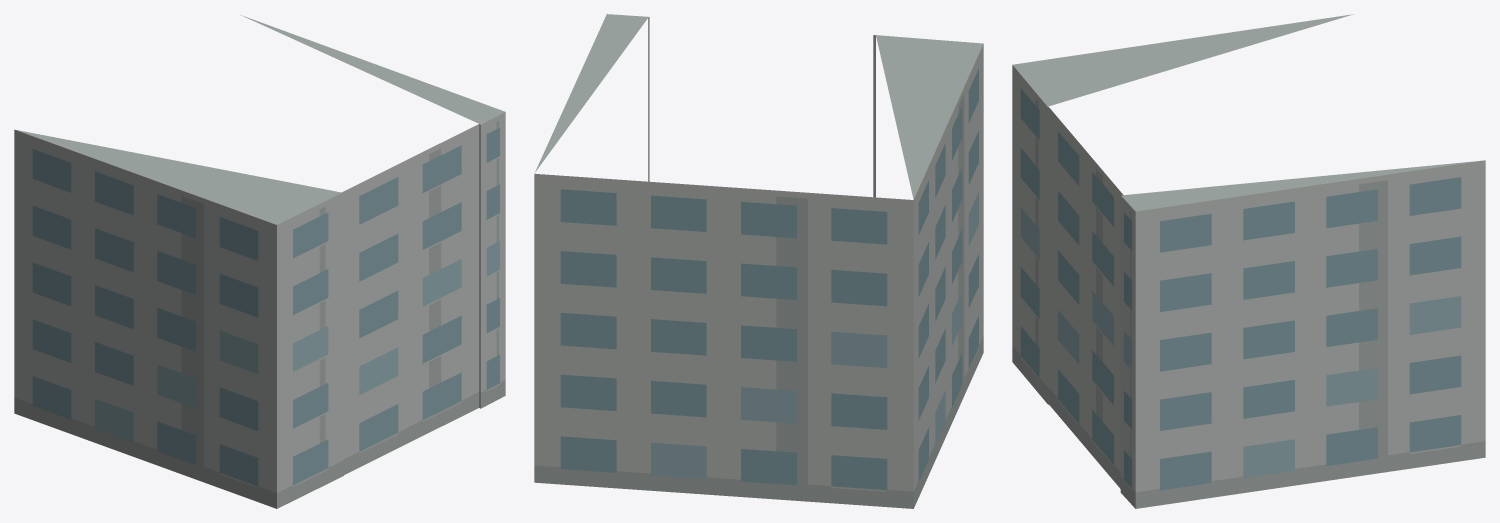
The model's file is survey-upis-32853123.glb.
The picture shows the model from 3 angles, left to right: view 1: azimuth 30°, elevation 25°; view 2: azimuth 150°, elevation 25°; view 3: azimuth 270°, elevation 25°; orthographic projection. The views are drawn at different scales.
Parts seen in each view (by area): view 1: survey-upis-32853123.tmp; view 2: survey-upis-32853123.tmp; view 3: survey-upis-32853123.tmp.
Part boxes in pixels (<box>): survey-upis-32853123.tmp: <box>14,15,505,508</box>; survey-upis-32853123.tmp: <box>534,14,983,508</box>; survey-upis-32853123.tmp: <box>1012,14,1485,508</box>.
Size of the model in its own units: 18.25 by 12.8 by 18.47.
